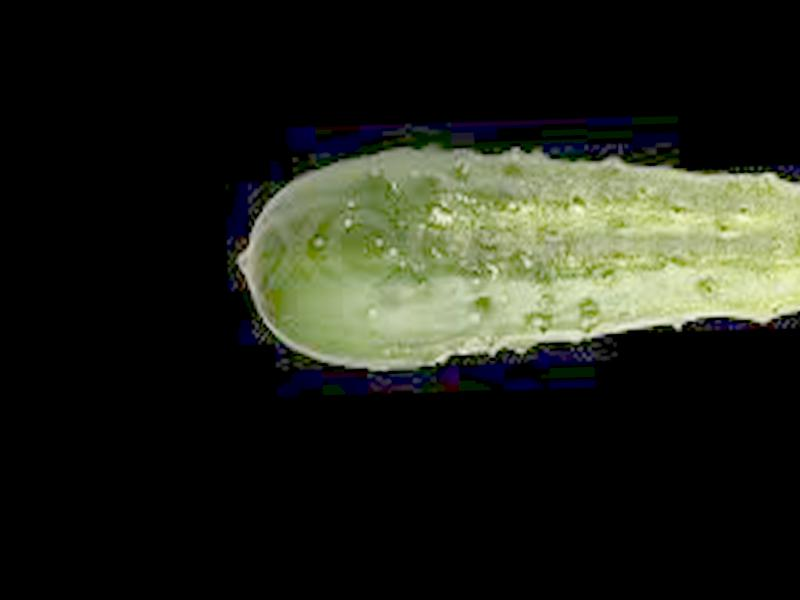Cucumber: (235, 129, 800, 373)
